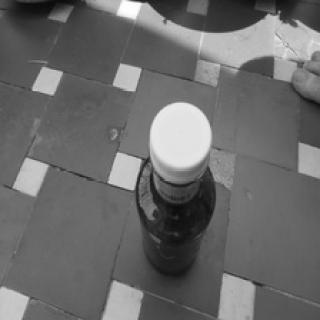plastic_bottles: (128, 98, 218, 280)
